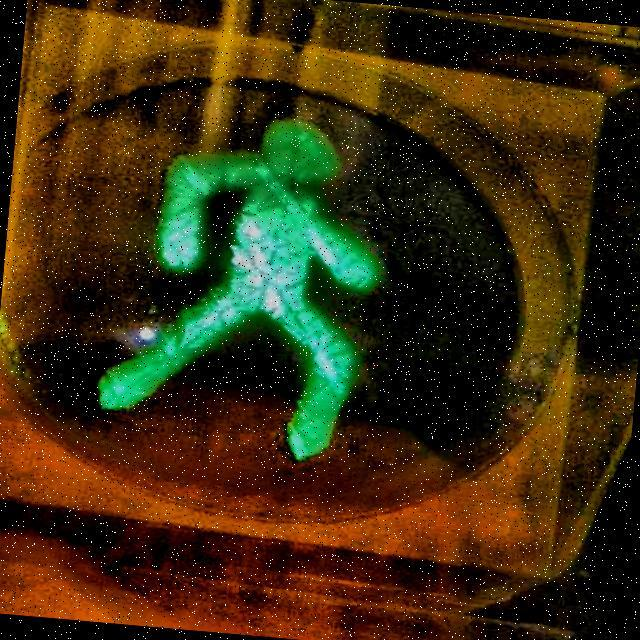green_light: (83, 96, 394, 468)
